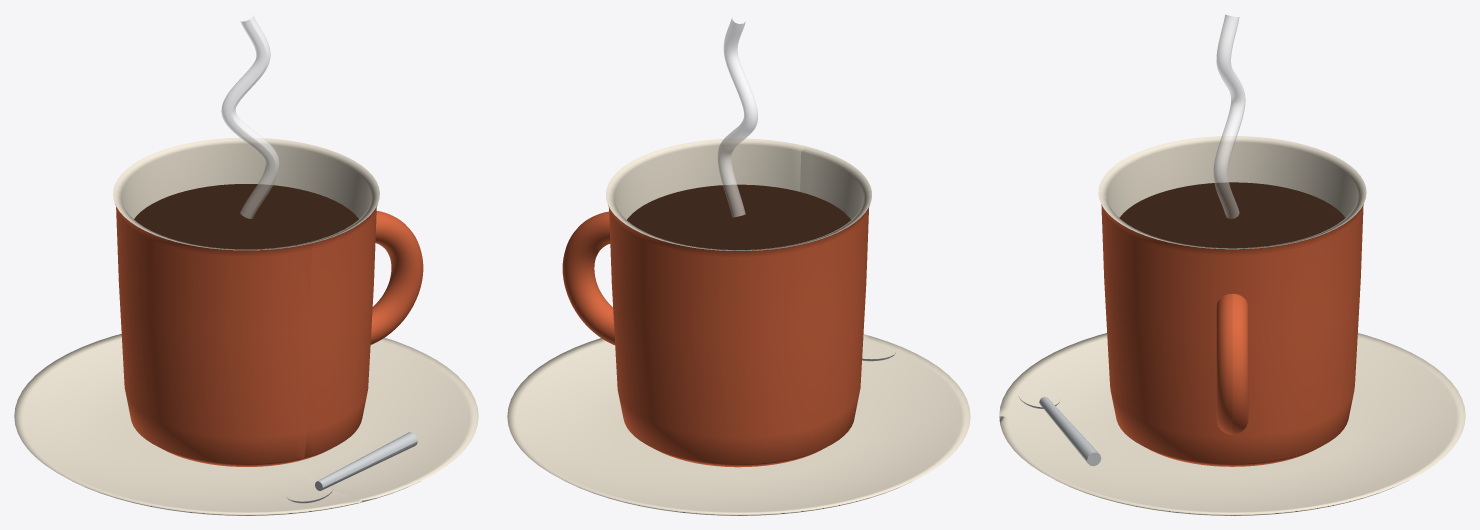
Rendered from dummy.glb.
3 renders of one model, left to right at view 1: azimuth 30°, elevation 25°; view 2: azimuth 150°, elevation 25°; view 3: azimuth 270°, elevation 25°, orthographic.
Visible parts, largest first — view 1: Body, Saucer, Inside, Coffee, Handle, Steam, Spoon; view 2: Body, Saucer, Inside, Coffee, Handle, Steam; view 3: Body, Saucer, Inside, Coffee, Handle, Steam, Spoon.
Boxes of the visible parts, box(x1,y1,x2,y2) form: Body: box(115, 204, 377, 466); Saucer: box(14, 334, 478, 515); Inside: box(113, 137, 379, 250); Coffee: box(134, 184, 358, 249); Handle: box(370, 211, 423, 344); Steam: box(221, 15, 279, 218); Spoon: box(286, 432, 417, 503); Body: box(608, 205, 869, 467); Saucer: box(507, 334, 970, 515); Inside: box(606, 138, 871, 250); Coffee: box(627, 184, 850, 249); Handle: box(562, 211, 615, 345); Steam: box(717, 18, 757, 217); Body: box(1101, 204, 1363, 466); Saucer: box(999, 333, 1465, 515); Inside: box(1098, 136, 1366, 249); Coffee: box(1119, 182, 1345, 248); Handle: box(1216, 293, 1248, 434); Steam: box(1213, 14, 1245, 218); Spoon: box(1018, 396, 1101, 466).
Bounding box in the file's own units: 1.6 × 1.61 × 1.6.
